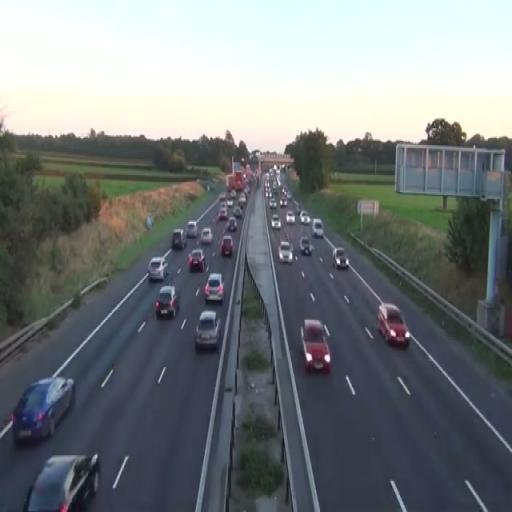Car: (10, 374, 76, 447), (24, 452, 102, 512), (299, 319, 332, 374), (377, 303, 410, 348), (194, 310, 221, 351), (154, 285, 180, 319), (204, 273, 225, 304), (148, 256, 169, 282), (188, 248, 205, 272), (332, 248, 350, 270), (278, 241, 294, 264), (220, 234, 234, 258), (200, 227, 213, 245)
